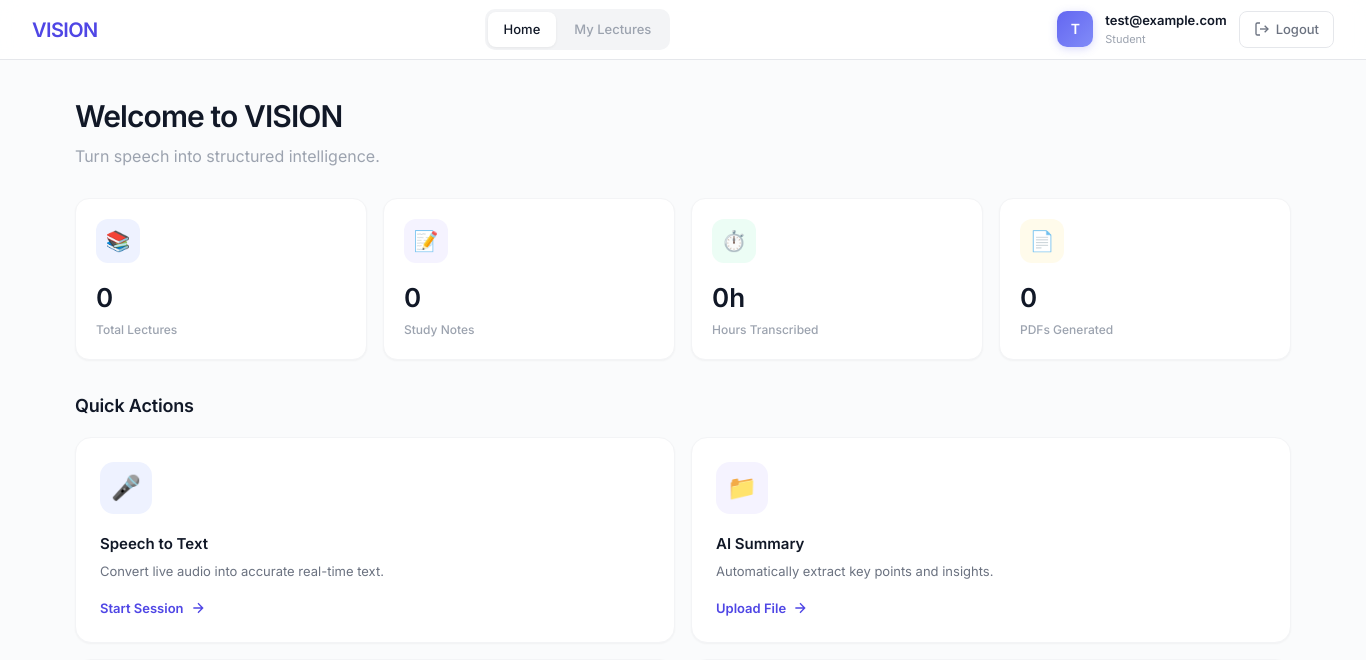
Scenario: DashboardLayout › should switch to history tab when My Lectures is clicked
What coordinates should you click on to do the following:
click the button "My Lectures"
I would click on:
 (613, 30)
Its box is [558, 12, 667, 47].
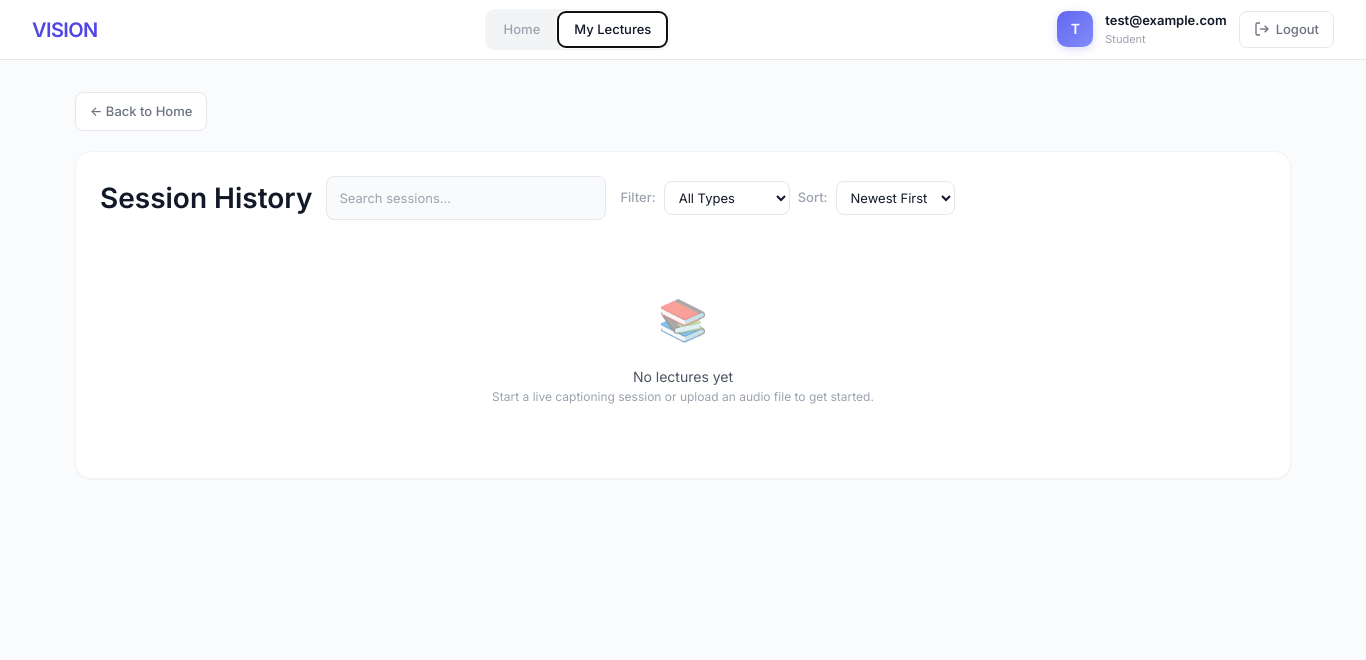
Expected: the element with test id "lecture-history" is shown, [75, 151, 1291, 479]
